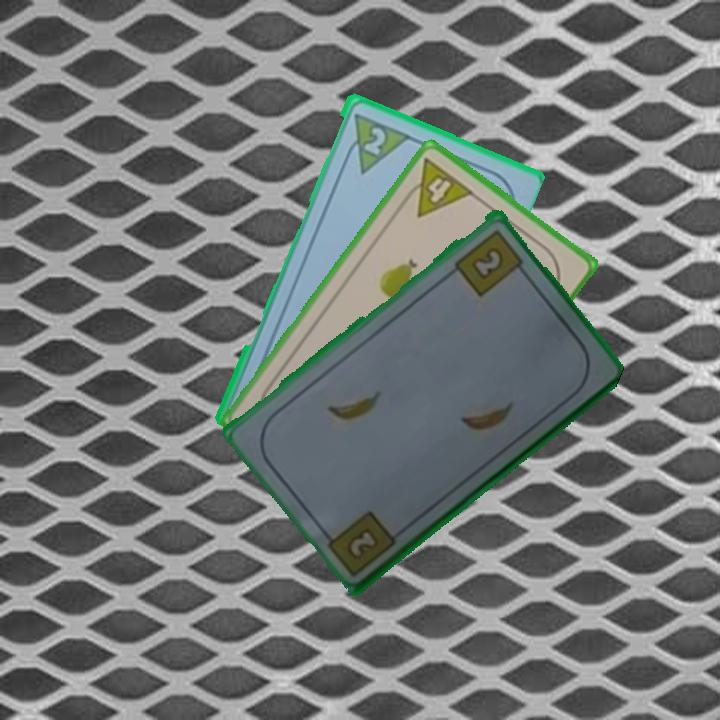2b: (450, 225, 528, 299), (346, 523, 382, 559)
2p: (359, 122, 389, 158)
4p: (397, 154, 477, 220)
